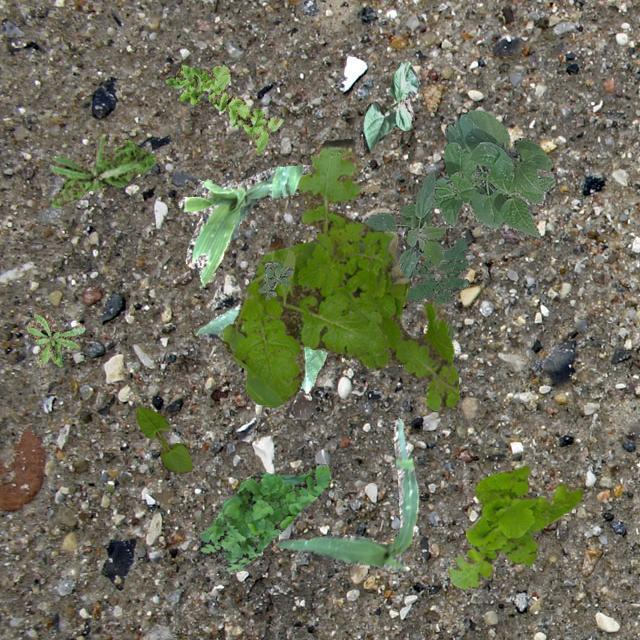crop: (276, 416, 418, 570), (178, 164, 312, 284), (430, 109, 554, 238), (195, 302, 326, 392), (362, 60, 418, 152), (134, 406, 192, 472)
weed: (222, 137, 458, 410), (446, 466, 582, 588), (198, 462, 330, 570), (165, 64, 282, 152), (364, 168, 446, 278), (49, 132, 154, 206), (404, 236, 468, 340), (26, 306, 84, 366), (256, 260, 292, 298)
